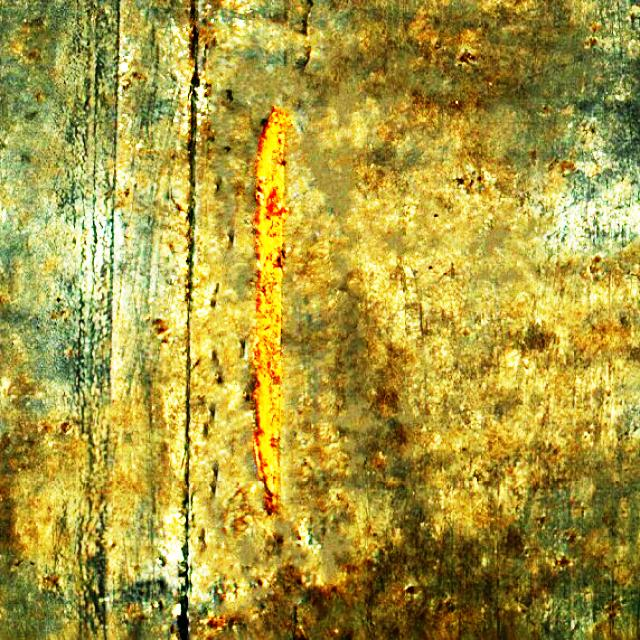Corrosion: (254, 106, 293, 515)
